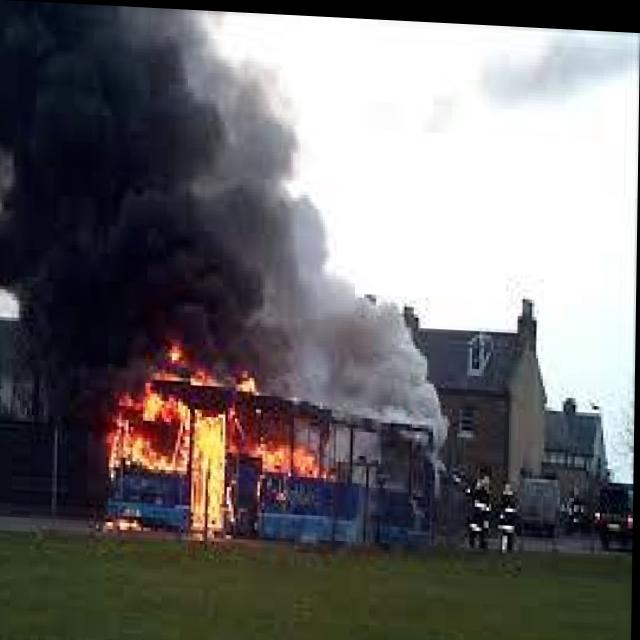fire: (98, 327, 249, 547), (256, 379, 343, 496)
